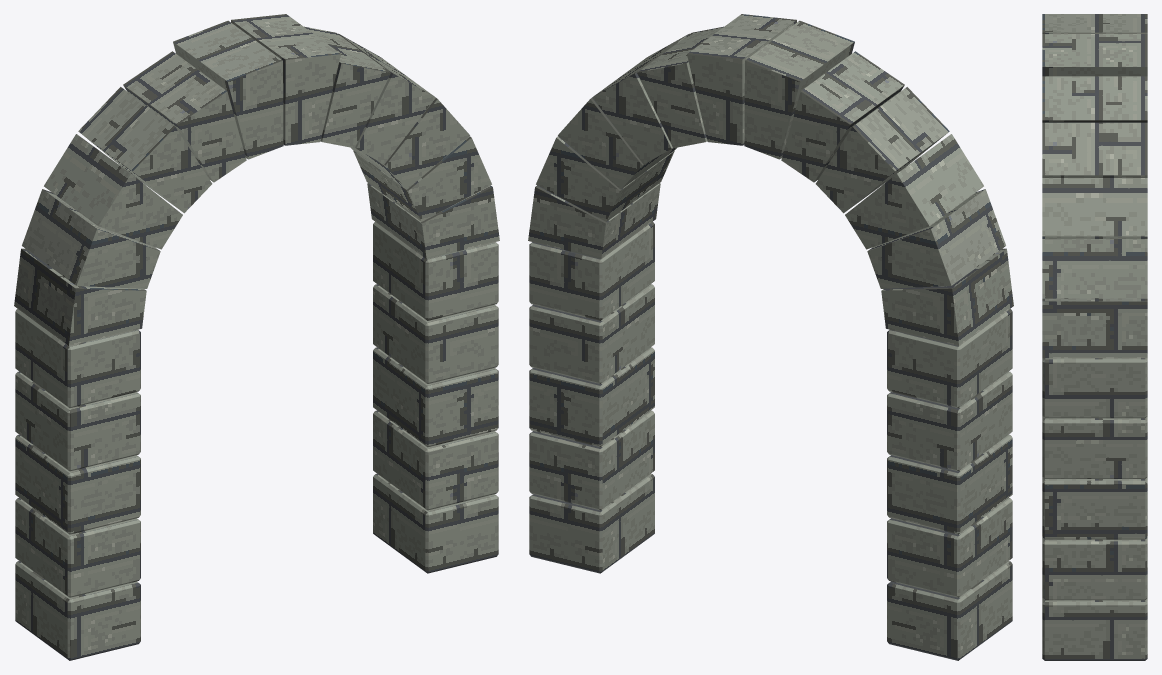
Rendered from act3_arch_full.glb.
3 views of the same model, side by side, from view 1: azimuth 30°, elevation 25°; view 2: azimuth 150°, elevation 25°; view 3: azimuth 270°, elevation 25° (orthographic). The views are drawn at different scales.
Visible parts, largest first — view 1: arch_stone_06, pier_course.007, pier_course.001, pier_course, pier_course.005, pier_course.008, pier_course.003, pier_course.006, pier_course.002, pier_course.004, arch_stone_08, pier_course.009 (+10 smaller); view 2: arch_stone_06, pier_course.007, pier_course.001, pier_course, pier_course.005, pier_course.008, pier_course.003, pier_course.006, pier_course.002, pier_course.004, arch_stone_08, pier_course.009 (+10 smaller); view 3: pier_course.006, pier_course.007, arch_stone_00, arch_stone_02, pier_course.005, pier_course.008, pier_course.009, arch_stone_01, arch_stone_03, arch_stone_04, arch_stone_05, arch_stone_06.
Boxes of the visible parts, box(x1,y1,x2,y2) form: arch_stone_06: box(173, 20, 283, 159); pier_course.007: box(373, 347, 498, 447); pier_course.001: box(15, 498, 140, 597); pier_course: box(15, 561, 140, 660); pier_course.005: box(373, 473, 498, 573); pier_course.008: box(373, 284, 498, 383); pier_course.003: box(15, 371, 140, 471); pier_course.006: box(373, 410, 498, 510); pier_course.002: box(15, 434, 140, 534); pier_course.004: box(15, 308, 140, 408); arch_stone_08: box(78, 87, 212, 213); pier_course.009: box(373, 222, 498, 320); arch_stone_06: box(744, 20, 854, 159); pier_course.007: box(529, 347, 654, 447); pier_course.001: box(887, 498, 1012, 597); pier_course: box(887, 561, 1012, 660); pier_course.005: box(529, 473, 654, 573); pier_course.008: box(529, 284, 654, 383); pier_course.003: box(887, 371, 1012, 471); pier_course.006: box(529, 410, 654, 510); pier_course.002: box(887, 434, 1012, 534); pier_course.004: box(887, 308, 1012, 408); arch_stone_08: box(815, 87, 949, 213); pier_course.009: box(529, 222, 654, 320); pier_course.006: box(1042, 538, 1147, 600); pier_course.007: box(1042, 477, 1147, 539); arch_stone_00: box(1042, 298, 1147, 358); arch_stone_02: box(1042, 178, 1147, 238); pier_course.005: box(1042, 598, 1147, 660); pier_course.008: box(1042, 416, 1147, 478); pier_course.009: box(1042, 358, 1147, 418); arch_stone_01: box(1042, 239, 1147, 298); arch_stone_03: box(1042, 122, 1147, 177); arch_stone_04: box(1042, 76, 1147, 122); arch_stone_05: box(1042, 34, 1147, 76); arch_stone_06: box(1042, 14, 1147, 33).
Size of the model in its own units: 5 by 6.09 by 1.1.
Materials: 1 (1 with a texture image).
